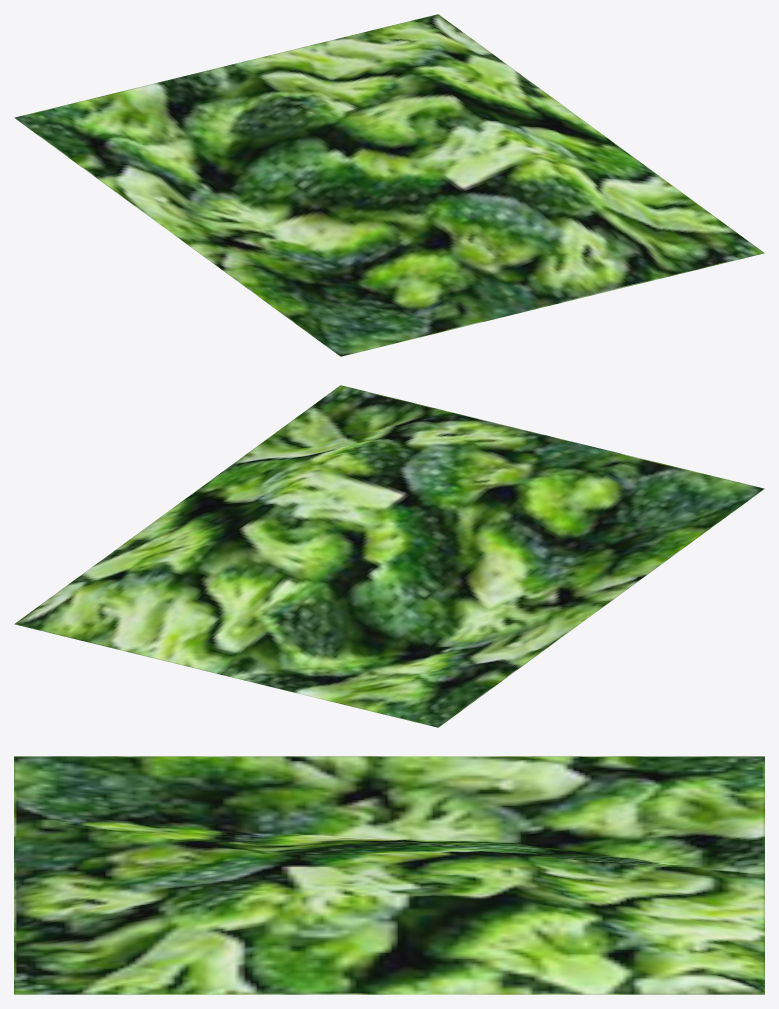
Rendered from Brocoli.fbx.
3 views of the same model, one above another, from view 1: azimuth 30°, elevation 25°; view 2: azimuth 150°, elevation 25°; view 3: azimuth 270°, elevation 25° (orthographic). The views are drawn at different scales.
Visible parts, largest first — view 1: Plane002; view 2: Plane002; view 3: Plane002.
Boxes of the visible parts, <box> form: Plane002: <box>14,14,764,356</box>; Plane002: <box>14,385,764,727</box>; Plane002: <box>14,756,764,994</box>.
Bounding box in the file's own units: 0.15 × 0.019 × 0.2.
Materials: 1 (1 with a texture image).
